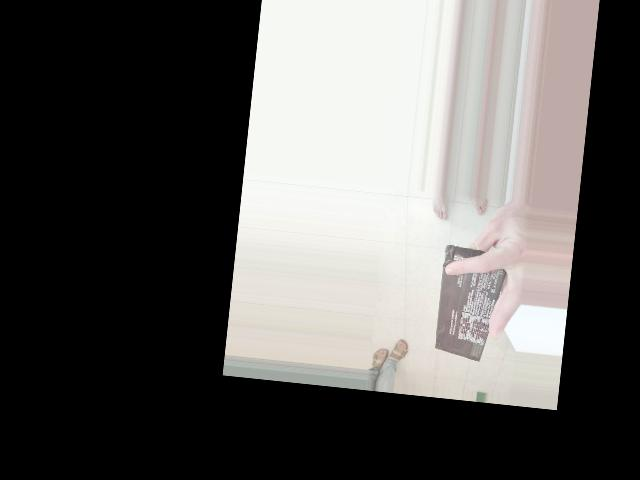chocolate: (367, 241, 498, 332)
